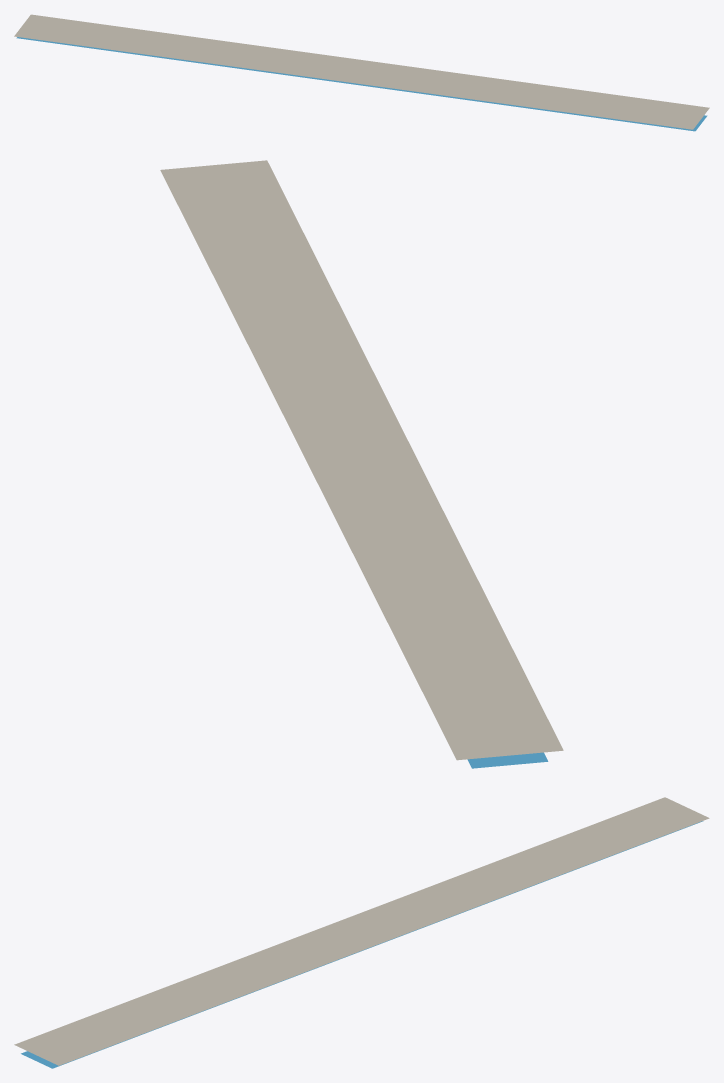
3 views of the same model, one above another, from view 1: azimuth 30°, elevation 25°; view 2: azimuth 150°, elevation 25°; view 3: azimuth 270°, elevation 25° (orthographic). The views are drawn at different scales.
Visible parts, largest first — view 1: estructura_terreno, estructura_agua; view 2: estructura_terreno; view 3: estructura_terreno, estructura_agua.
Part boxes in pixels (x1,y1,x2,y2): estructura_terreno: (14, 14, 709, 129); estructura_agua: (16, 37, 707, 131); estructura_terreno: (160, 160, 563, 760); estructura_terreno: (14, 797, 709, 1065); estructura_agua: (21, 821, 703, 1068).
Bounding box in the file's own units: 39.77 × 0.41 × 43.53.
